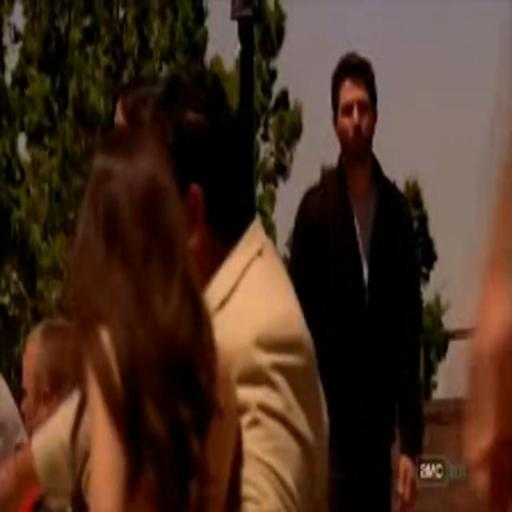nao-violencia: (32, 68, 339, 512)
